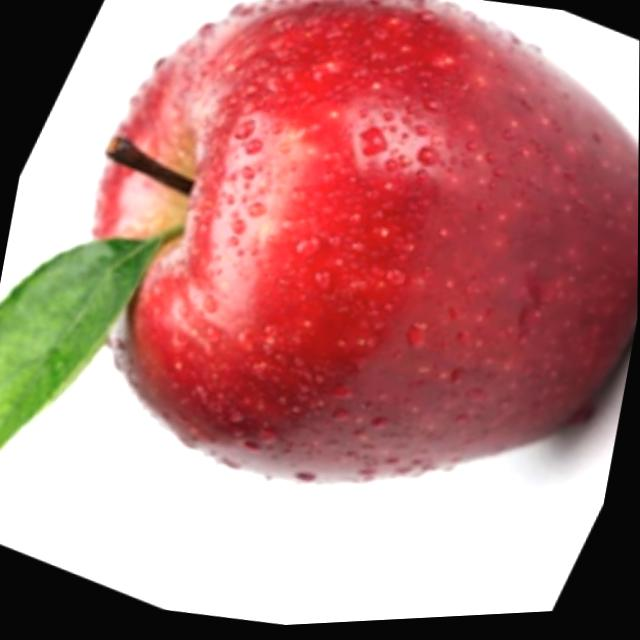organik: (20, 0, 640, 576)
